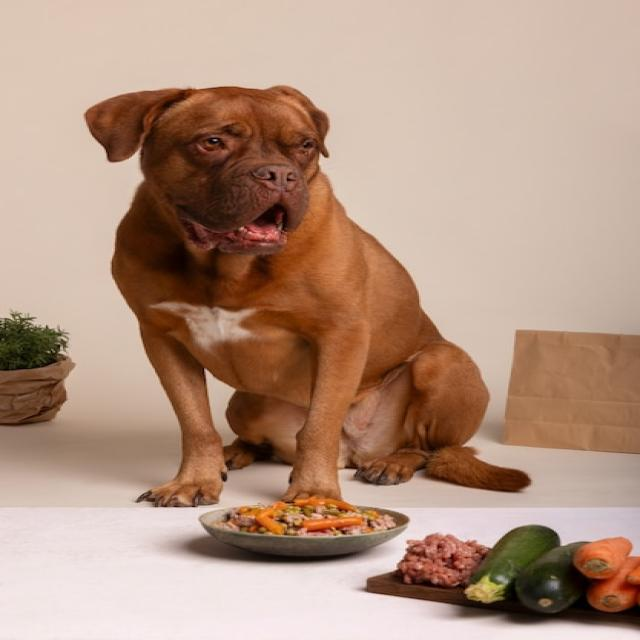Dog: (86, 86, 534, 516)
